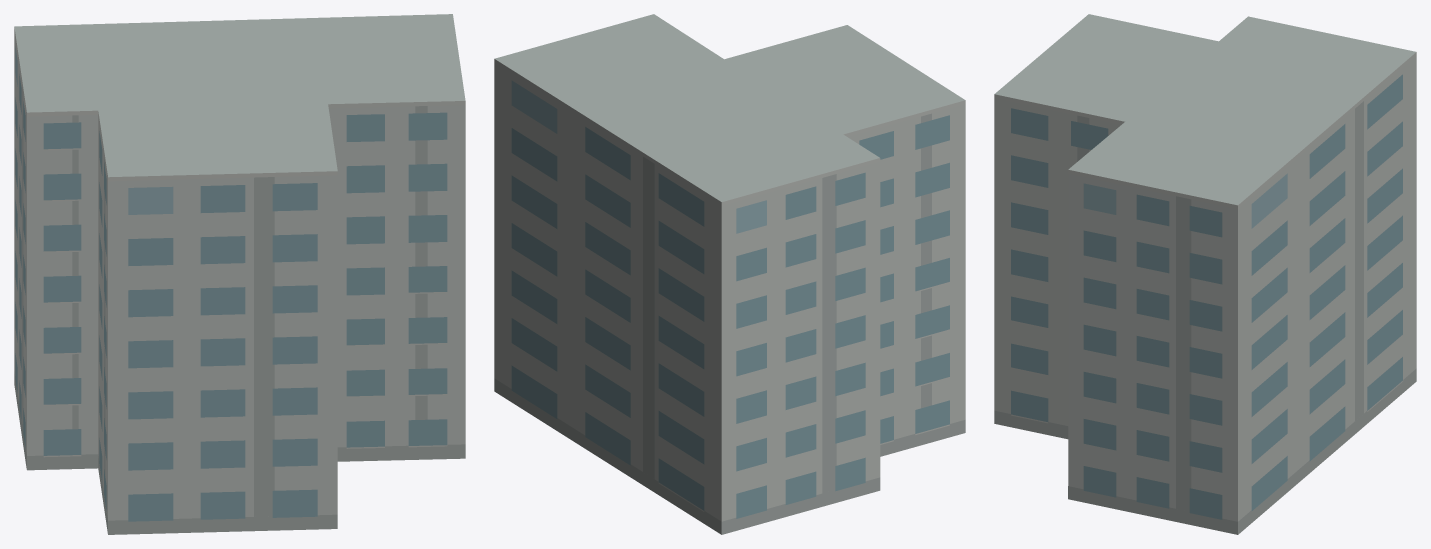
The model's file is residential-35cc372e-cff0-4bce-94e6-4ea5c815988f.glb.
3 renders of one model, left to right at view 1: azimuth 30°, elevation 25°; view 2: azimuth 150°, elevation 25°; view 3: azimuth 270°, elevation 25°, orthographic. The views are drawn at different scales.
Parts seen in each view (by area): view 1: residential-35cc372e-cff0-4bce-94e6-4ea5c815988f.tmp; view 2: residential-35cc372e-cff0-4bce-94e6-4ea5c815988f.tmp; view 3: residential-35cc372e-cff0-4bce-94e6-4ea5c815988f.tmp.
Boxes of the visible parts, box(x1,y1,x2,y2) form: residential-35cc372e-cff0-4bce-94e6-4ea5c815988f.tmp: box(14, 14, 465, 534); residential-35cc372e-cff0-4bce-94e6-4ea5c815988f.tmp: box(494, 14, 965, 534); residential-35cc372e-cff0-4bce-94e6-4ea5c815988f.tmp: box(994, 14, 1416, 534).
Bounding box in the file's own units: 26.17 × 21 × 24.4.
